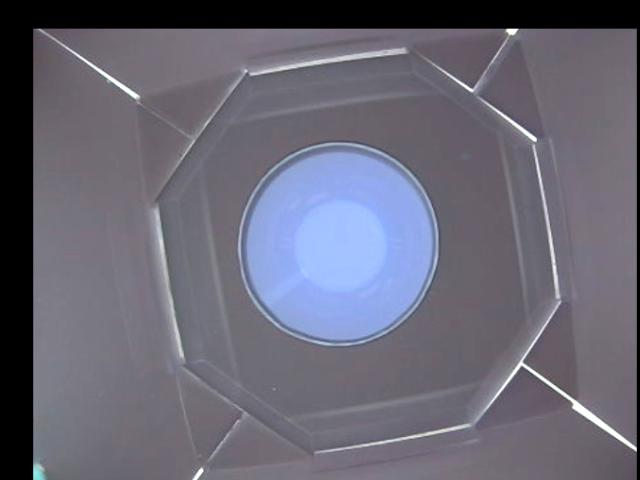Cup: (239, 140, 441, 347)
